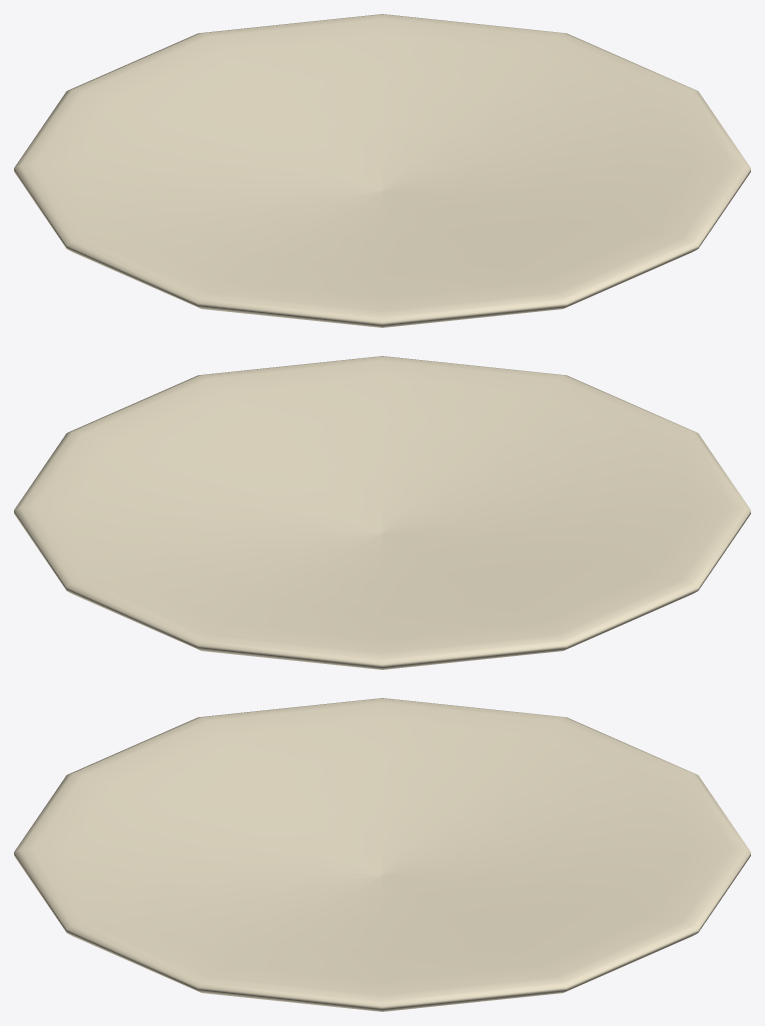
File: Plate.fbx
3 renders of one model, top to bottom at view 1: azimuth 30°, elevation 25°; view 2: azimuth 150°, elevation 25°; view 3: azimuth 270°, elevation 25°, orthographic.
Parts seen in each view (by area): view 1: revolvedSurface2; view 2: revolvedSurface2; view 3: revolvedSurface2.
Boxes of the visible parts, left/top/right/bottom form: revolvedSurface2: left=14, top=14, right=750, bottom=327; revolvedSurface2: left=14, top=356, right=750, bottom=669; revolvedSurface2: left=14, top=698, right=750, bottom=1011.
Bounding box in the file's own units: 15.09 × 1.08 × 15.24.
